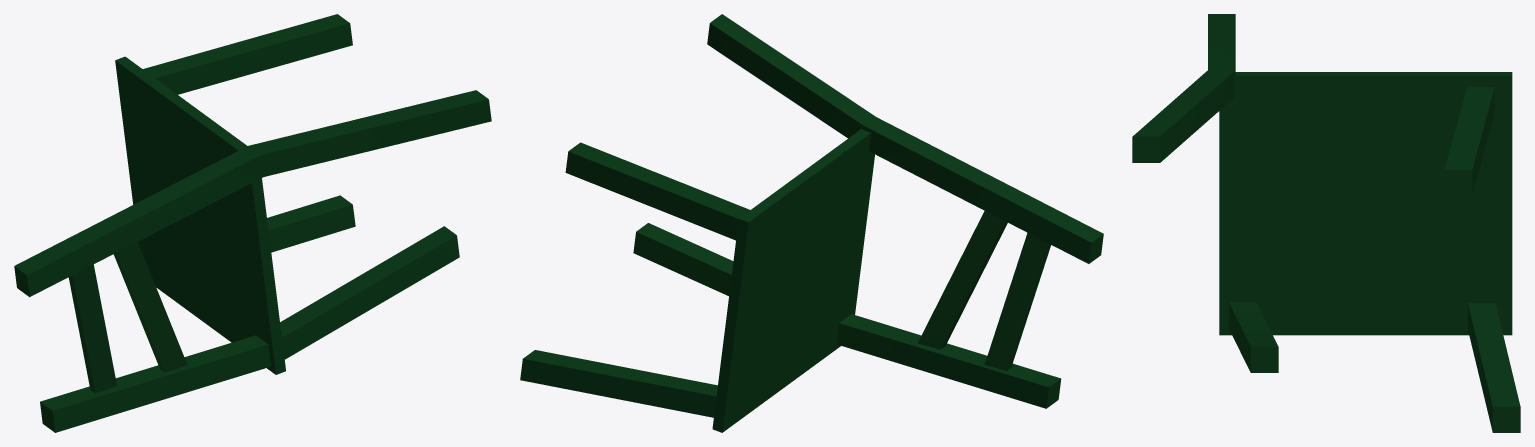
The model's file is chaise cabane Low.FBX.
The picture shows the model from 3 angles, left to right: view 1: azimuth 30°, elevation 25°; view 2: azimuth 150°, elevation 25°; view 3: azimuth 270°, elevation 25°; orthographic projection. The views are drawn at different scales.
Visible parts, largest first — view 1: Box104; view 2: Box104; view 3: Box104.
Boxes of the visible parts, bbox=[...] form: Box104: bbox=[14, 14, 491, 432]; Box104: bbox=[520, 14, 1103, 432]; Box104: bbox=[1132, 14, 1520, 432].
Size of the model in its own units: 105 by 59.03 by 70.04.
